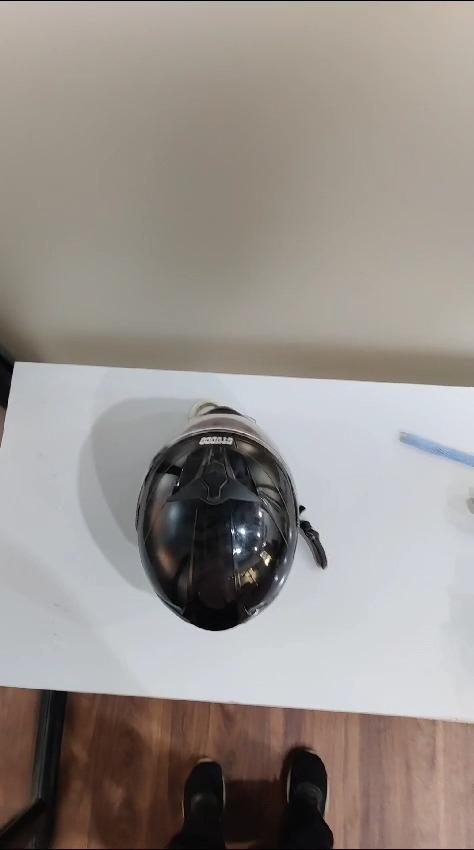Helmet: (114, 396, 305, 644)
